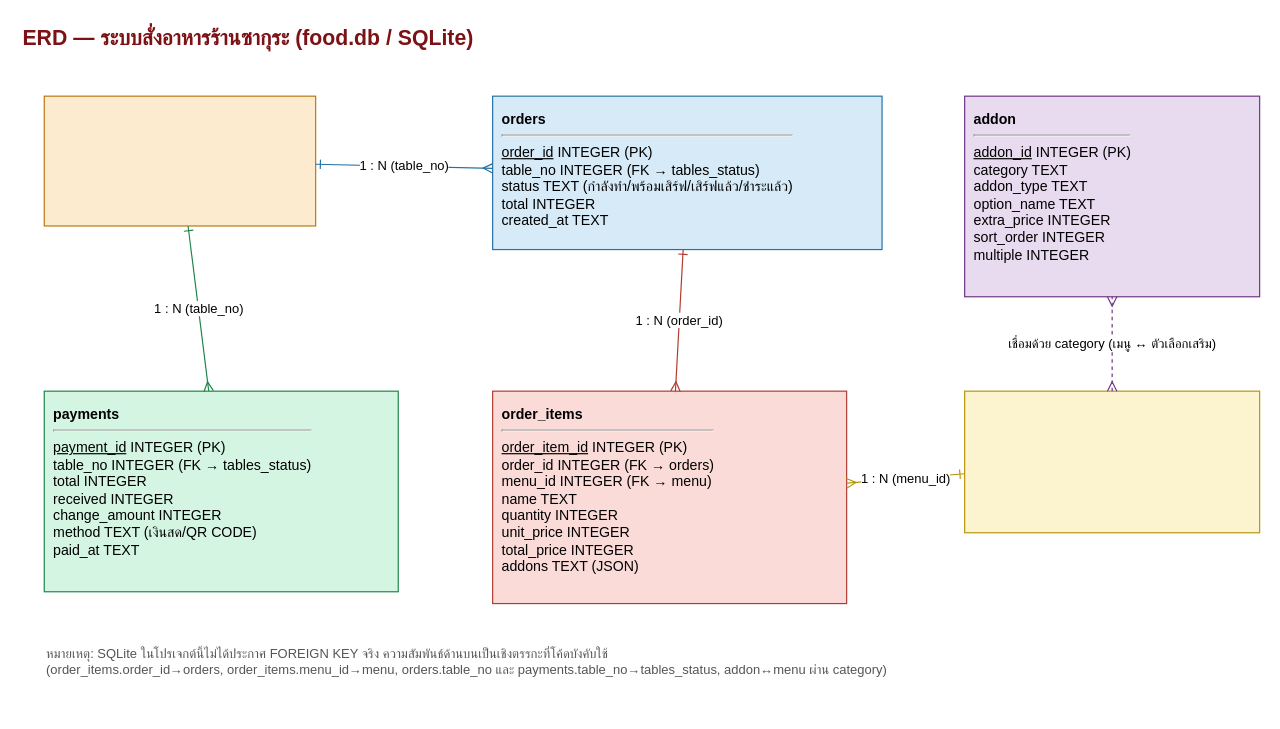
This 1280x729 diagram has some shape labels left out. Here are the shapes that lost their labels. From the top down, the centre of each, then its label:
At (x=179, y=160): "tables_status table_no INTEGER (PK) status TEXT updated_at TEXT".
At (x=1111, y=461): "menu menu_id INTEGER (PK) name TEXT price INTEGER image TEXT category TEXT".
